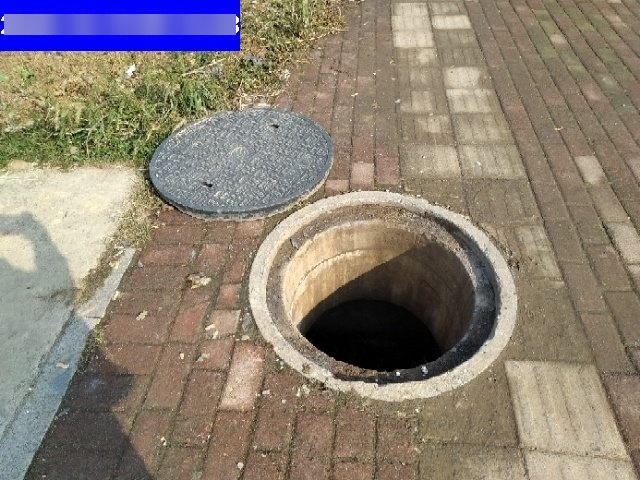uncovered: (147, 107, 518, 399)
